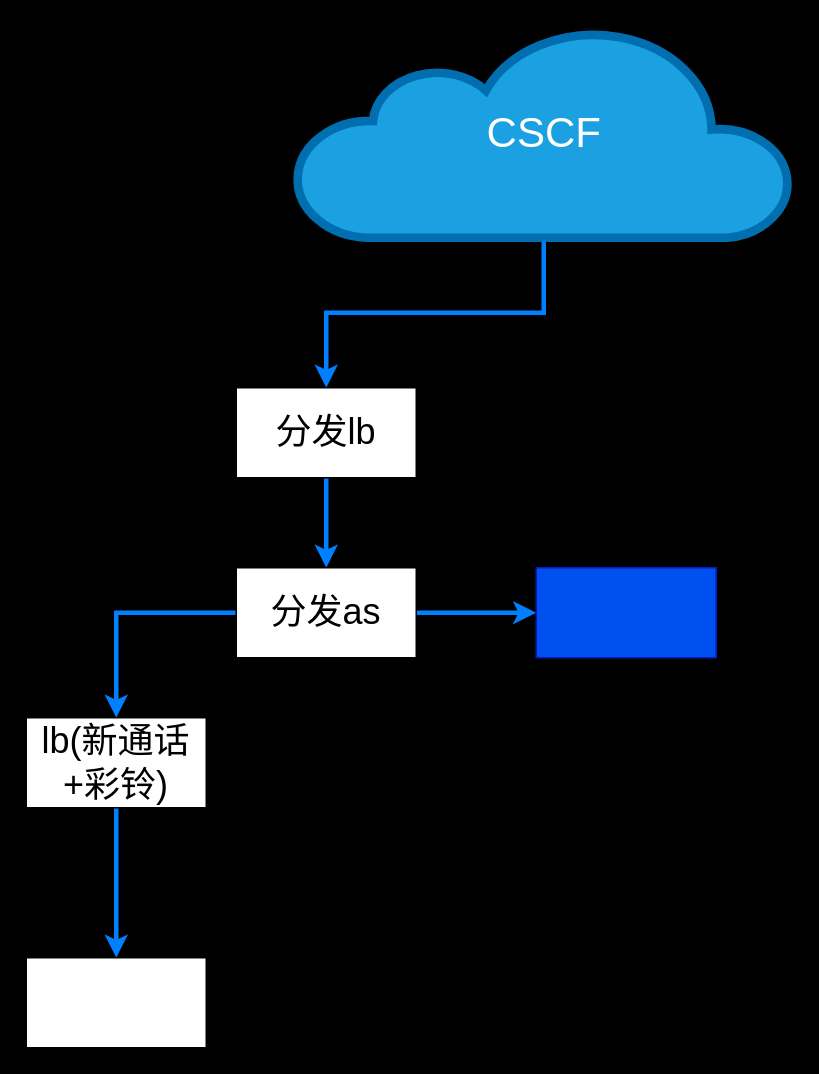
The diagram is 819 pixels wide and 1074 high, and some of its shapes have lost their labels. The centre of each missing label's shape, as x and y in pixels:
东信语音平台: (x=625, y=612)
新通话+彩铃as: (x=115, y=1002)
